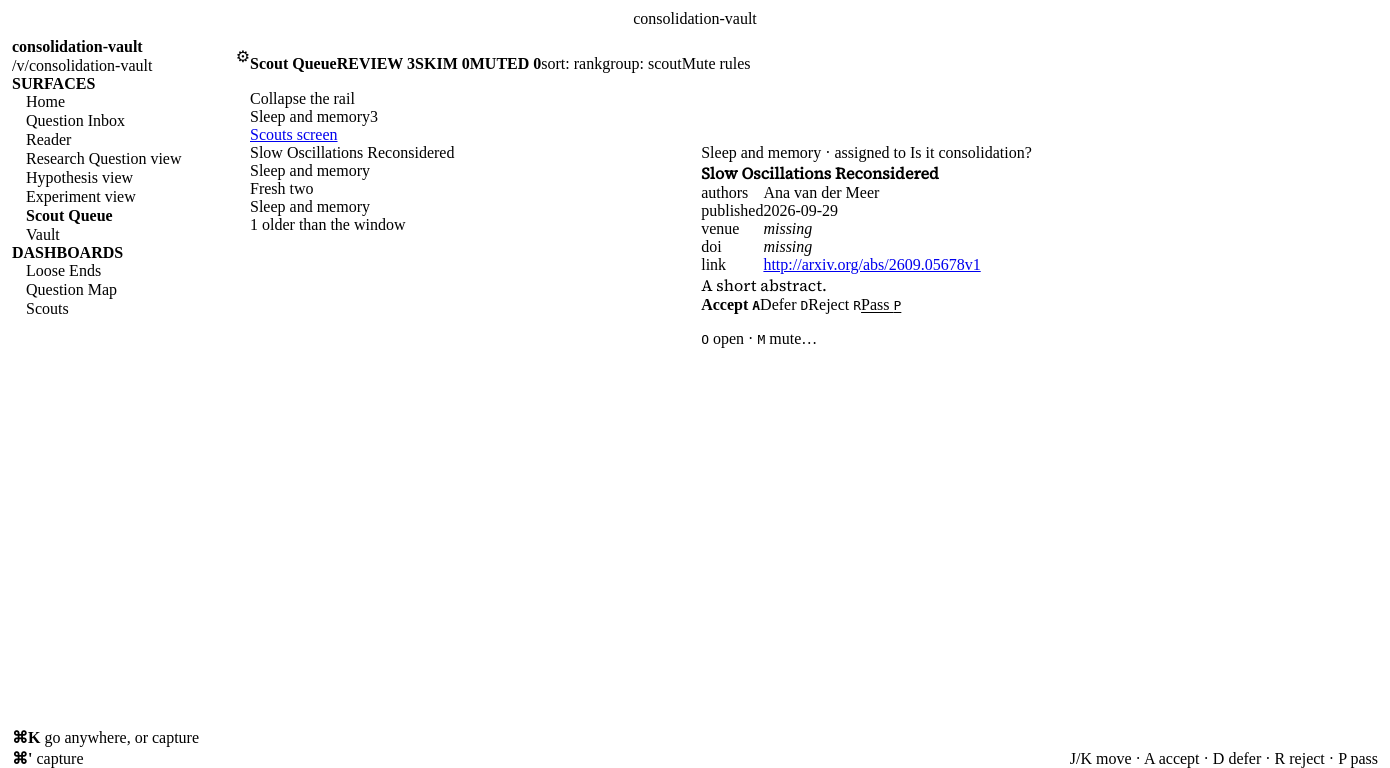
Test: the Review digest › collapses past-window cards into one line at the foot, and expands it
The image size is (1390, 768).
Expected: the element named "Slow Oscillations Reconsidered" is shown, top-left (701, 144), bottom-right (1032, 347)
Expected: the tab "Review 3" is shown, top-left (337, 55), bottom-right (415, 73)
Click the button "1 older than the window". click: (328, 225)
box: top-left (250, 216), bottom-right (406, 234)
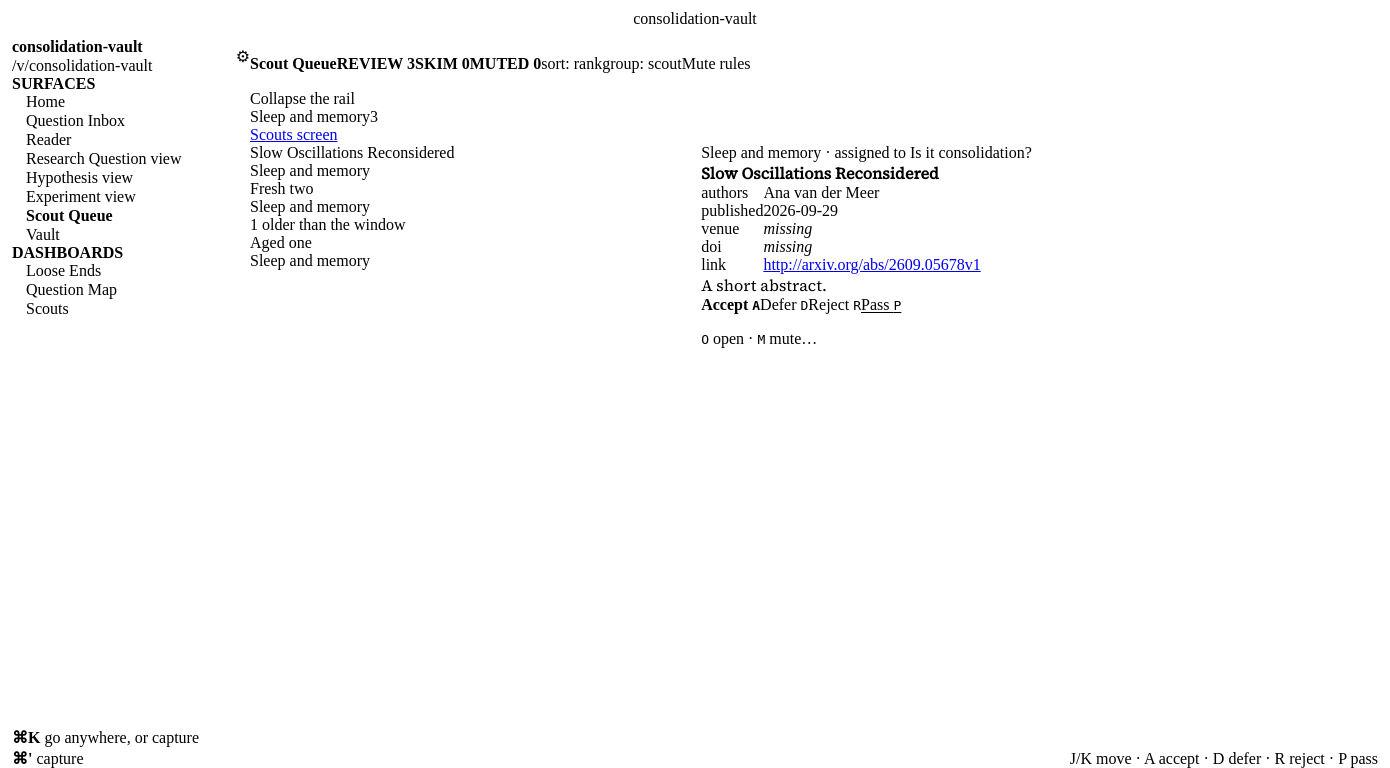
Expected: the text "Aged one" is shown, top-left (250, 234), bottom-right (312, 252)
